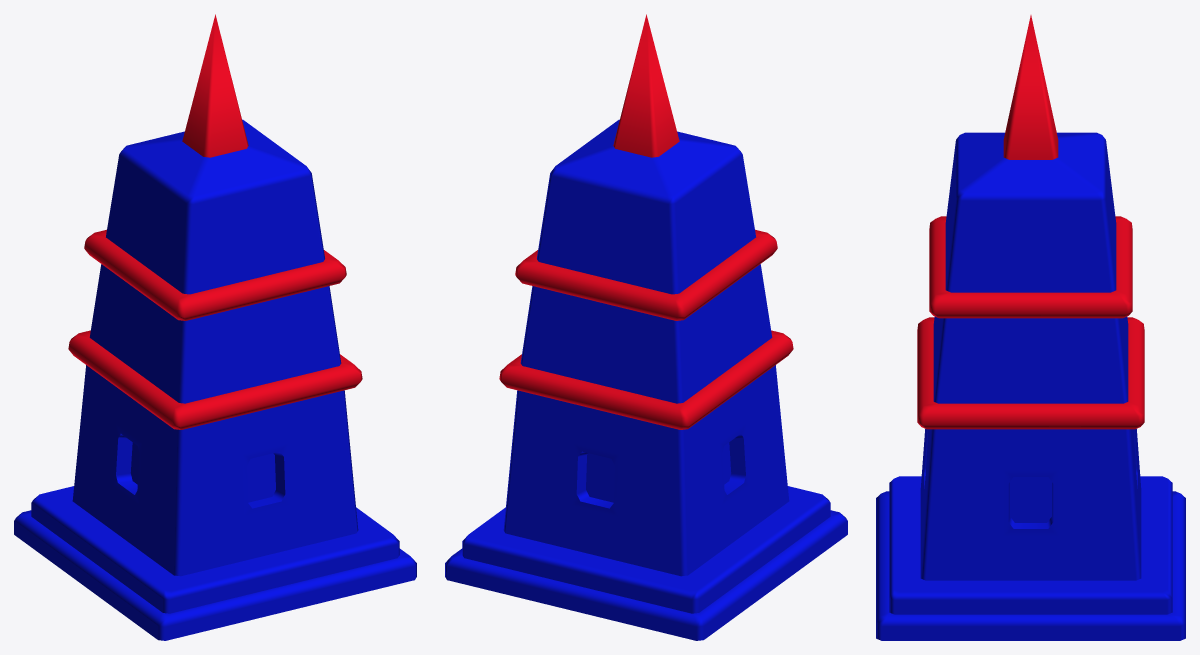
File: SM_TestAsset.fbx
3 renders of one model, left to right at view 1: azimuth 30°, elevation 25°; view 2: azimuth 150°, elevation 25°; view 3: azimuth 270°, elevation 25°, orthographic. The views are drawn at different scales.
Visible parts, largest first — view 1: PipelineTest_HP; view 2: PipelineTest_HP; view 3: PipelineTest_HP.
Part boxes in pixels (bbox=[...]): PipelineTest_HP: bbox=[14, 14, 416, 640]; PipelineTest_HP: bbox=[445, 14, 847, 640]; PipelineTest_HP: bbox=[876, 15, 1185, 640].
Size of the model in its own units: 142 by 283 by 142.
